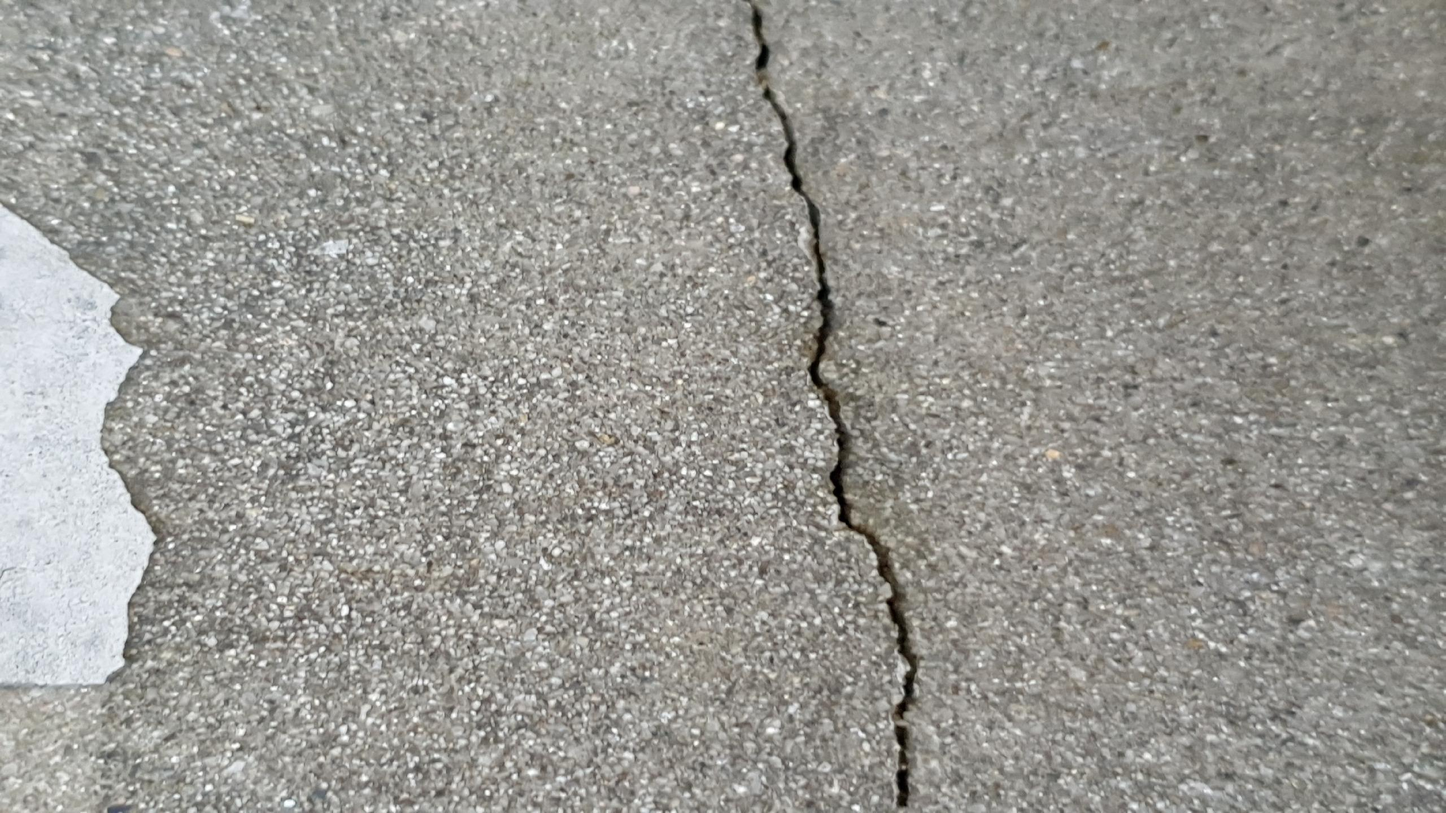crack: (747, 2, 919, 810)
